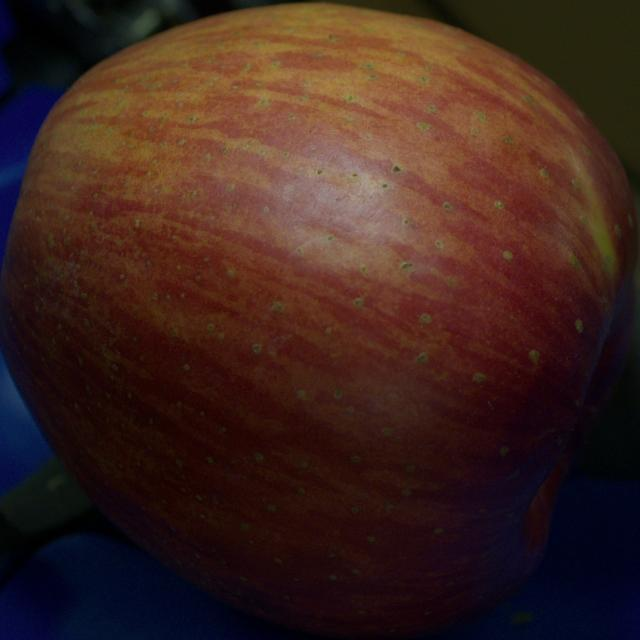apple: (0, 4, 639, 639)
